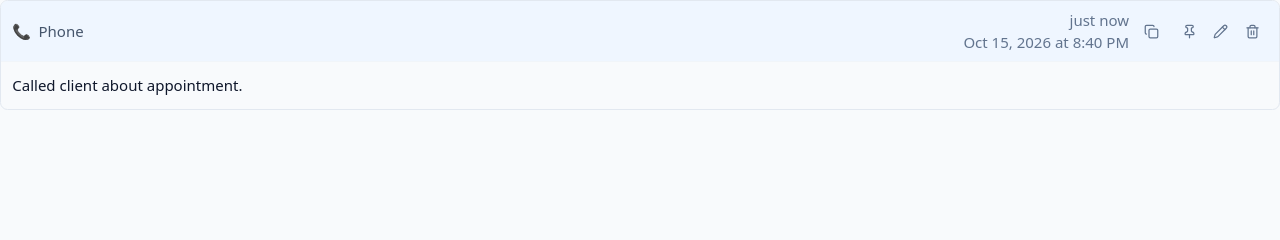
CaseLogEntry › edit button opens edit mode with textarea
Click the button named "Edit". click: (1221, 31)
box: [1206,16,1236,46]
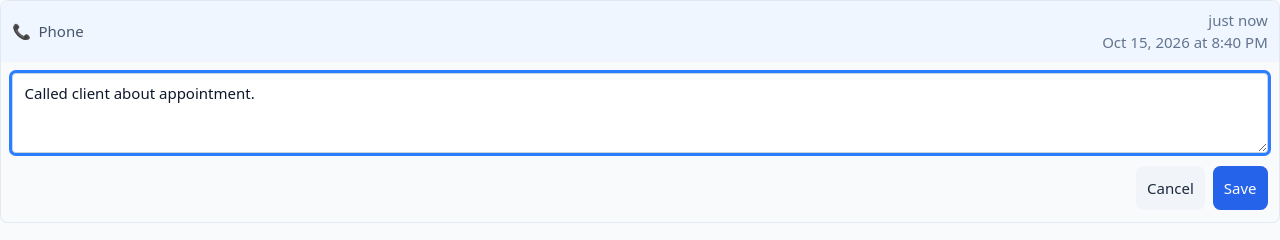
Check: the text box holds "Called client about appointment.", box [12,73,1268,153]
